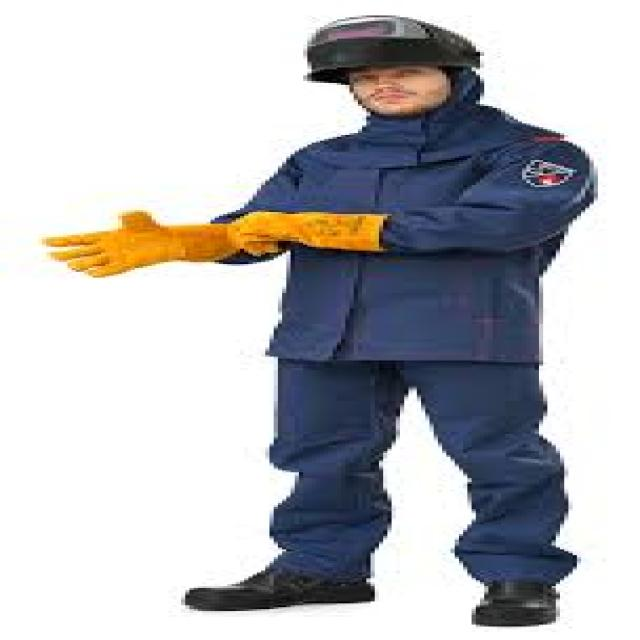gloves: (47, 214, 239, 273), (239, 210, 387, 255)
helmet: (306, 18, 482, 74)
